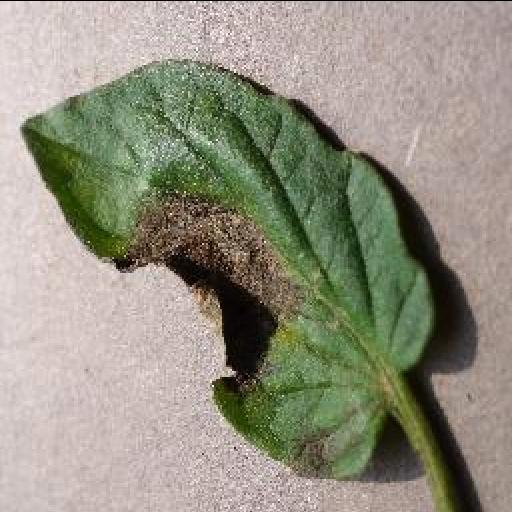disease_tomato: (18, 54, 436, 476)
